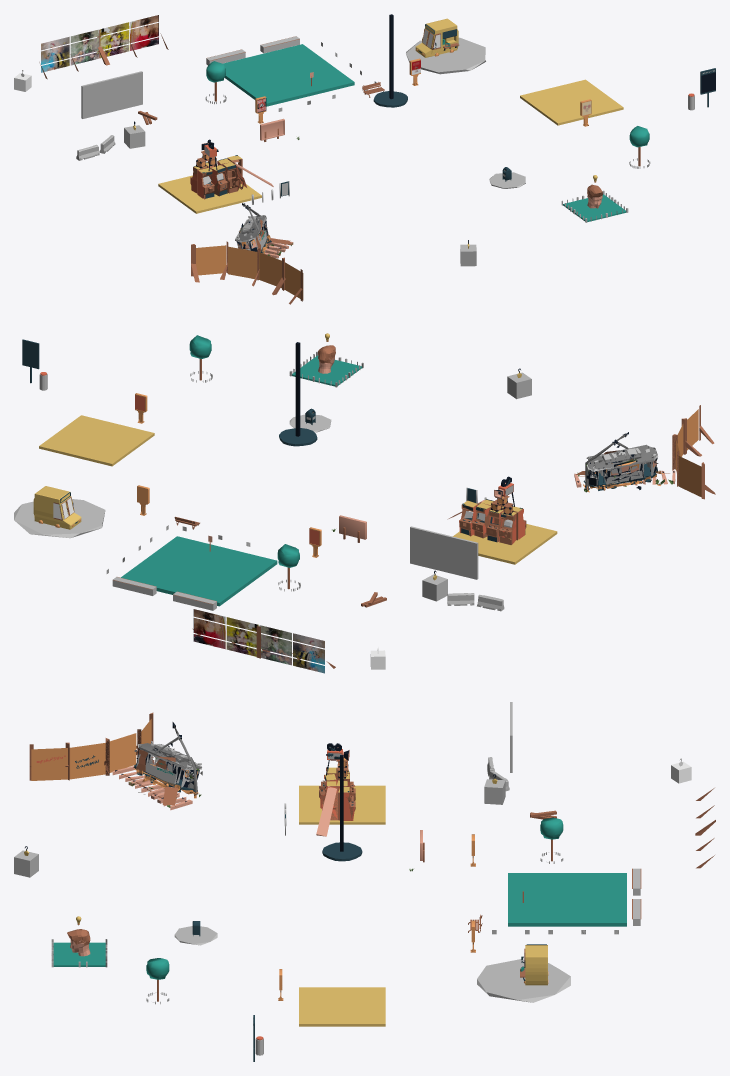
Rendered from passive.glb.
3 renders of one model, top to bottom at view 1: azimuth 30°, elevation 25°; view 2: azimuth 150°, elevation 25°; view 3: azimuth 270°, elevation 25°, orthographic. The views are drawn at different scales.
Parts seen in each view (by area): view 1: Jardin, WoodWall2, Woodwall, Trottoir1, Screen, BorneArcade, TrottoirCamion, Trottoir, Tram, Camion, Crate_gen, Trottoir3 (+2 smaller); view 2: Jardin, WoodWall2, Trottoir1, Tram, Screen, BorneArcade, Woodwall, TrottoirCamion, Trottoir, Camion, Crate_gen, Trottoir3 (+5 smaller); view 3: Jardin, Woodwall, Trottoir1, Tram, TrottoirCamion, Trottoir, BorneArcade, Trottoir3, Camion, Crate_gen, Trottoir5, CubeBetton.
Part boxes in pixels (left/top/right/bottom): Jardin: left=223, top=44, right=354, bottom=106; WoodWall2: left=39, top=15, right=168, bottom=79; Woodwall: left=191, top=241, right=303, bottom=304; Trottoir1: left=520, top=79, right=623, bottom=125; Screen: left=81, top=71, right=142, bottom=118; BorneArcade: left=190, top=155, right=246, bottom=199; TrottoirCamion: left=406, top=37, right=485, bottom=74; Trottoir: left=158, top=175, right=261, bottom=213; Tram: left=235, top=203, right=293, bottom=278; Camion: left=415, top=18, right=459, bottom=57; Crate_gen: left=373, top=14, right=407, bottom=107; Trottoir3: left=563, top=194, right=626, bottom=221; Jardin: left=121, top=536, right=277, bottom=606; WoodWall2: left=192, top=609, right=335, bottom=673; Trottoir1: left=39, top=415, right=154, bottom=466; Tram: left=574, top=432, right=675, bottom=492; Screen: left=410, top=526, right=478, bottom=579; BorneArcade: left=459, top=499, right=526, bottom=544; Woodwall: left=672, top=405, right=715, bottom=499; TrottoirCamion: left=14, top=499, right=105, bottom=538; Trottoir: left=453, top=524, right=557, bottom=564; Camion: left=33, top=486, right=81, bottom=529; Crate_gen: left=279, top=342, right=317, bottom=446; Trottoir3: left=292, top=355, right=362, bottom=386; Jardin: left=508, top=873, right=626, bottom=926; Woodwall: left=29, top=712, right=153, bottom=780; Trottoir1: left=299, top=987, right=385, bottom=1026; Tram: left=112, top=722, right=202, bottom=810; TrottoirCamion: left=477, top=959, right=570, bottom=1002; Trottoir: left=299, top=785, right=385, bottom=824; BorneArcade: left=319, top=767, right=355, bottom=820; Trottoir3: left=53, top=942, right=105, bottom=966; Camion: left=520, top=944, right=548, bottom=985; Crate_gen: left=322, top=755, right=362, bottom=861; Trottoir5: left=174, top=926, right=217, bottom=945; CubeBetton: left=14, top=846, right=38, bottom=877.
Size of the model in its own units: 190 by 42.17 by 176.
23 materials, 7 textured.
